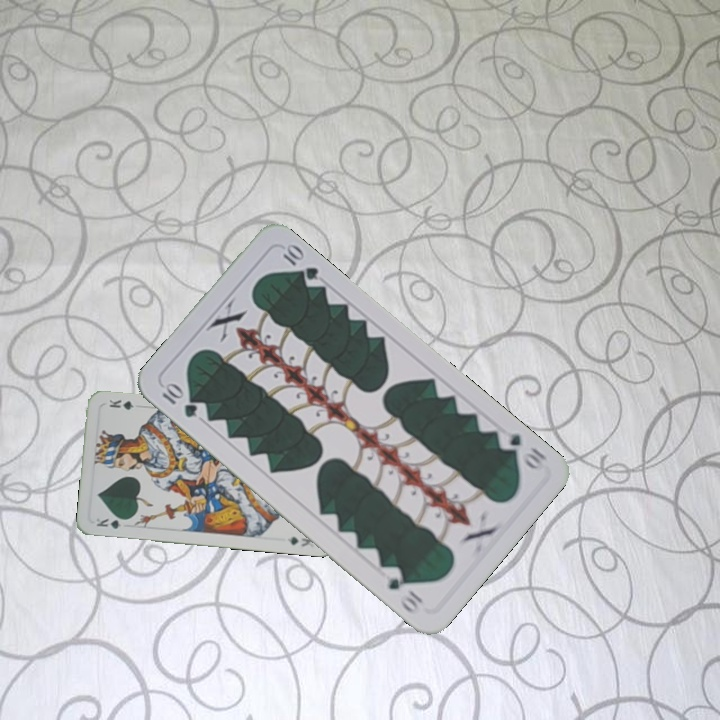G10: (493, 429, 550, 473), (158, 379, 200, 421)
GK: (92, 514, 132, 532)
